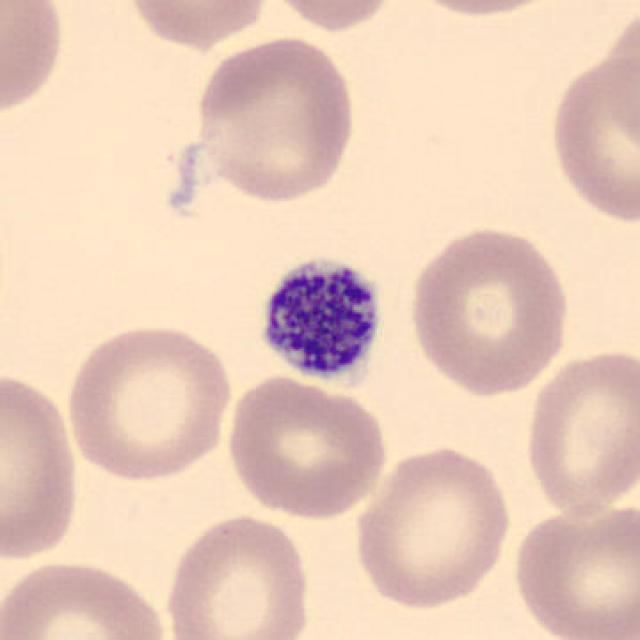Platelets: (250, 249, 388, 393)
RBC: (404, 220, 574, 400), (192, 32, 361, 206), (60, 319, 236, 485), (348, 441, 516, 612), (222, 372, 391, 522), (519, 344, 638, 520), (160, 509, 314, 640), (508, 497, 638, 640), (544, 44, 640, 229), (0, 363, 84, 568), (0, 555, 176, 640), (0, 0, 69, 123), (121, 0, 274, 51), (259, 0, 401, 35), (392, 0, 574, 19)
